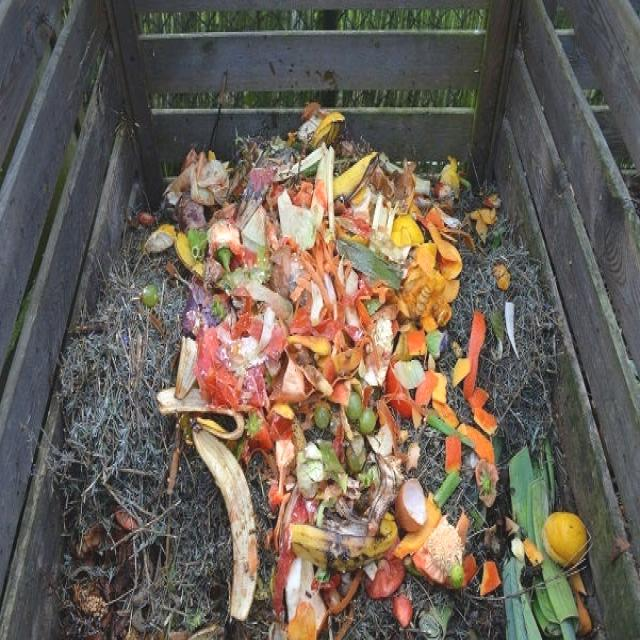wet: (189, 143, 503, 638)
